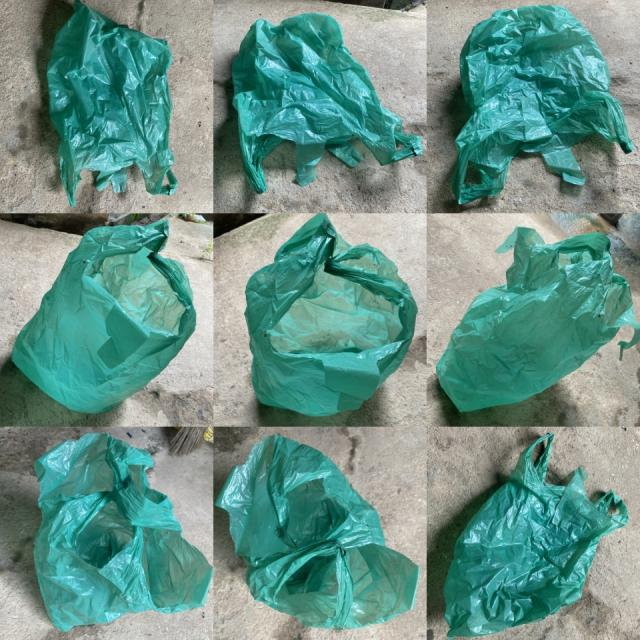Single-layer Plastic: (216, 436, 420, 629), (436, 226, 640, 411), (444, 434, 629, 638), (451, 5, 632, 203), (12, 221, 196, 413), (245, 214, 418, 416), (35, 434, 212, 631), (232, 12, 422, 193), (48, 0, 178, 206)
